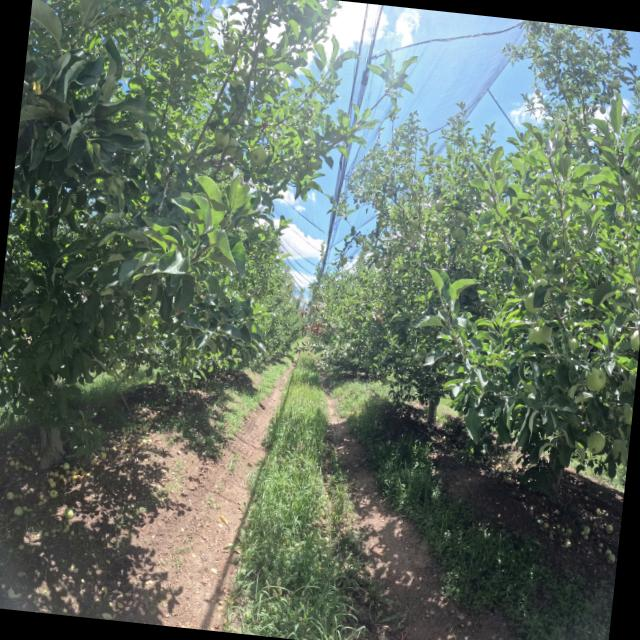-FireBlight-: (300, 318, 324, 336), (300, 304, 308, 318), (310, 306, 315, 312)
